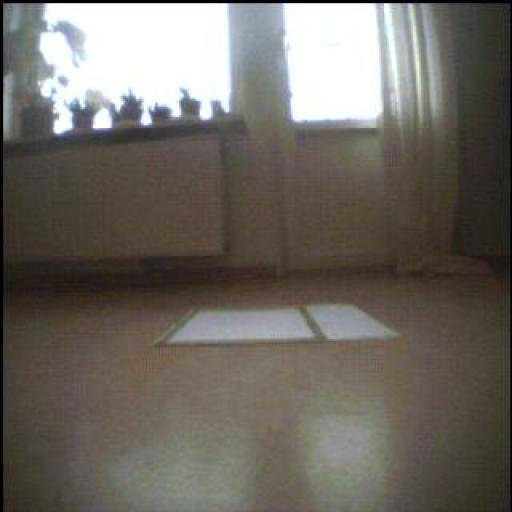Pad: (158, 303, 405, 340)
